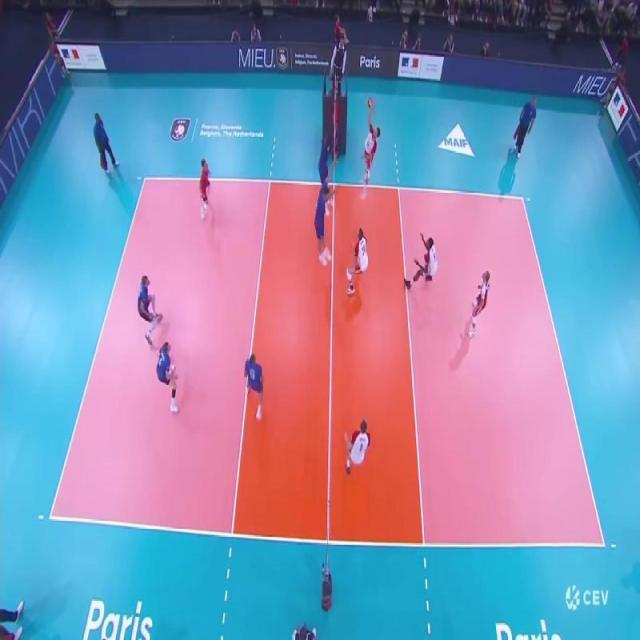volleyball: (367, 99, 372, 108)
